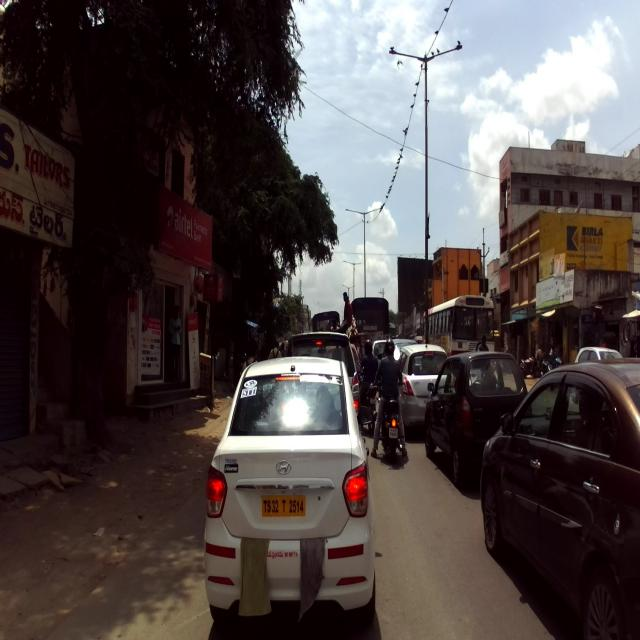car: (204, 352, 376, 628), (479, 358, 640, 640), (424, 350, 528, 487), (282, 331, 360, 428)
motorcycle: (373, 377, 404, 461)
